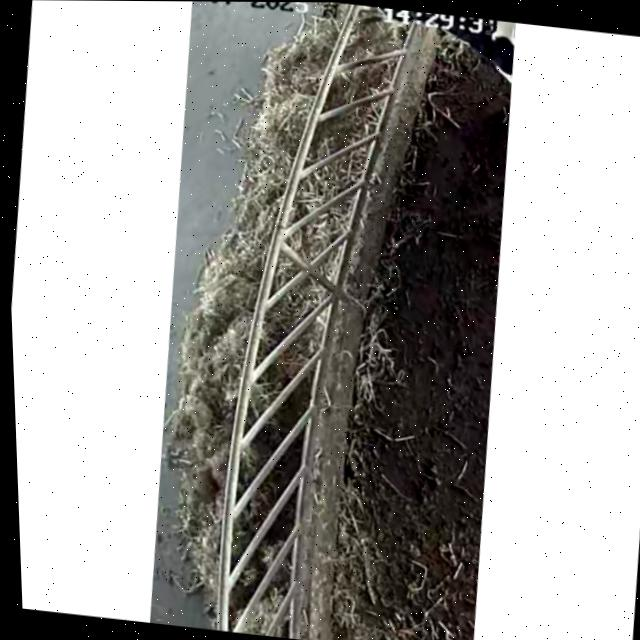eat: (303, 2, 496, 64)
